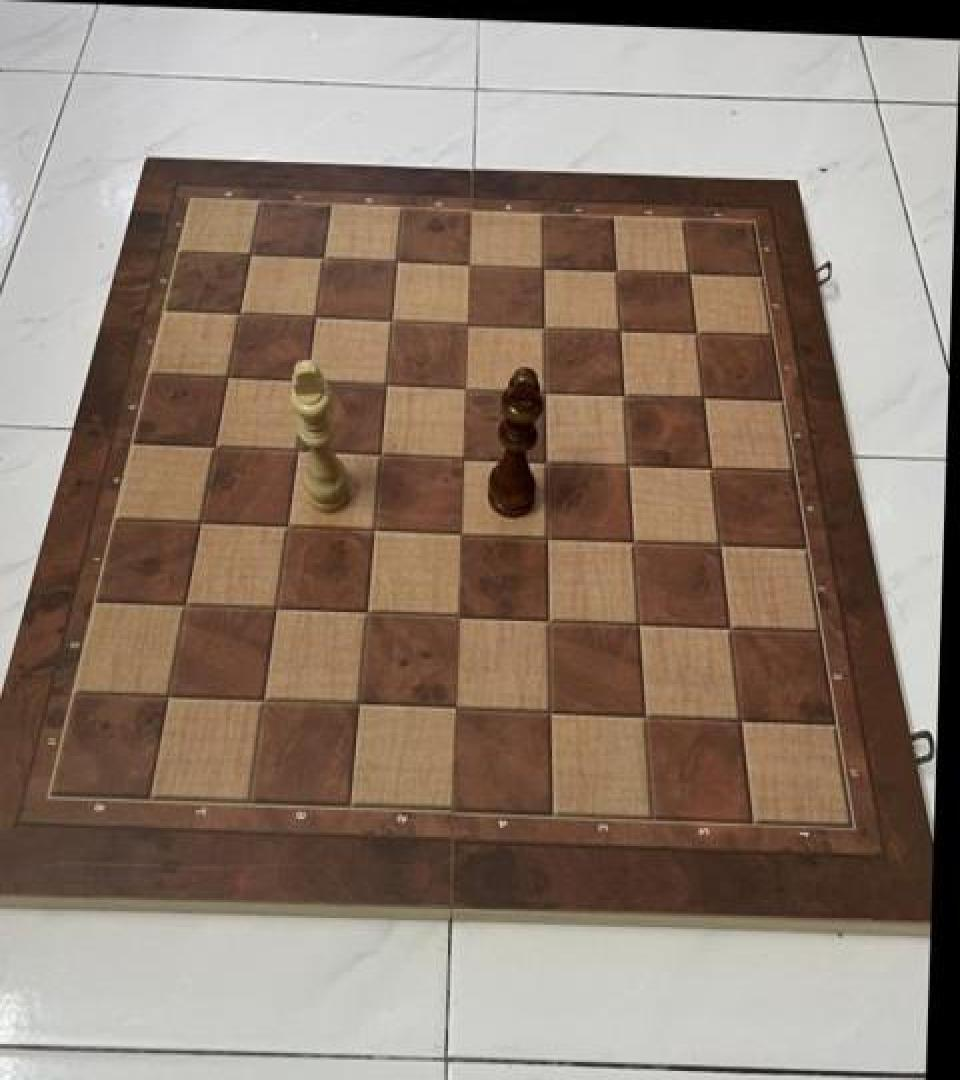xcorner: (307, 237, 341, 276), (186, 499, 220, 538), (234, 234, 268, 272), (380, 241, 414, 279), (453, 244, 487, 282), (526, 248, 560, 286), (599, 251, 633, 289), (672, 255, 706, 293), (223, 292, 257, 330), (299, 296, 333, 334), (375, 300, 409, 338), (451, 303, 485, 341), (527, 307, 561, 345), (603, 310, 637, 348), (679, 314, 713, 352), (212, 356, 246, 394), (291, 359, 325, 397), (370, 364, 404, 402), (449, 367, 483, 405), (528, 370, 562, 408), (607, 375, 641, 413), (686, 378, 720, 416), (199, 424, 233, 462), (282, 429, 316, 467), (364, 432, 398, 470), (447, 436, 481, 474), (529, 440, 563, 478), (612, 444, 646, 482), (694, 448, 728, 486), (272, 503, 306, 541), (444, 511, 478, 549), (531, 516, 565, 554), (616, 519, 650, 557), (702, 523, 736, 561), (171, 582, 205, 620), (261, 585, 295, 623), (351, 590, 385, 628), (442, 594, 476, 632), (532, 598, 566, 636), (622, 602, 656, 640), (712, 606, 746, 644), (154, 672, 188, 710), (249, 675, 283, 713), (344, 680, 378, 718), (439, 684, 473, 722), (533, 688, 567, 726), (628, 692, 662, 730), (722, 696, 756, 734), (358, 508, 392, 545)
